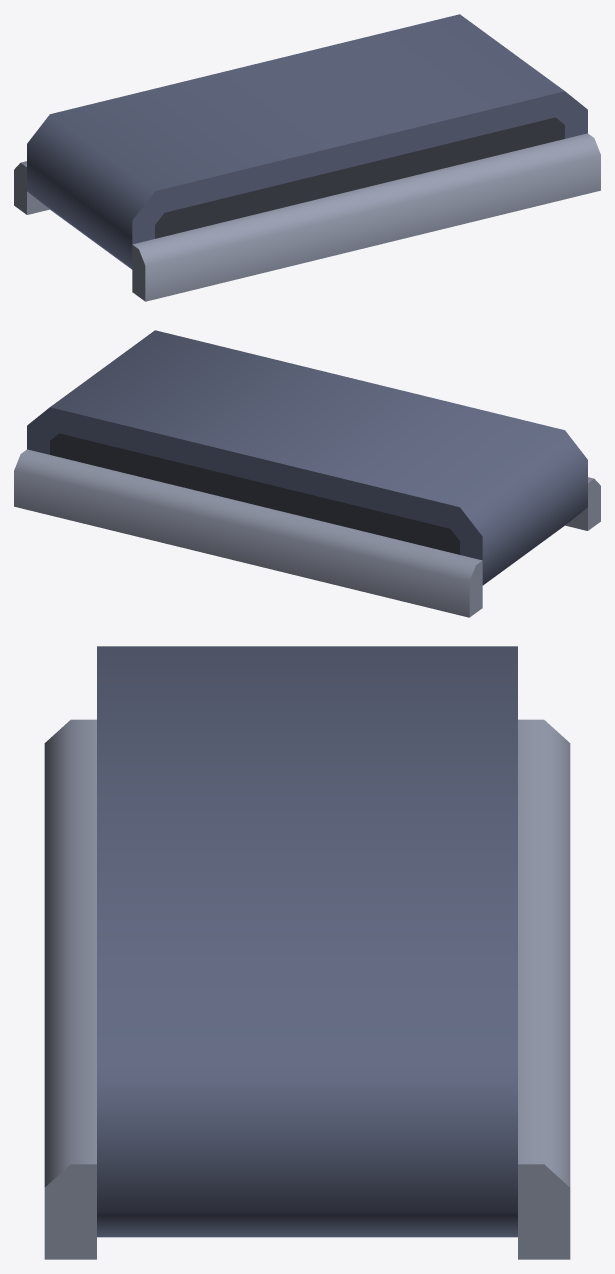
Rendered from ConveyorLongSides-transformed.glb.
3 renders of one model, top to bottom at view 1: azimuth 30°, elevation 25°; view 2: azimuth 150°, elevation 25°; view 3: azimuth 270°, elevation 25°, orthographic. The views are drawn at different scales.
Parts seen in each view (by area): view 1: Group (×2); view 2: Group (×2); view 3: Group (×2).
Boxes of the visible parts, x1,y1,x2,y2 form: Group (×2): (14,14,600,301); Group (×2): (14,330,600,617); Group (×2): (44,646,570,1259).
Bounding box in the file's own units: 2 × 0.4 × 1.
